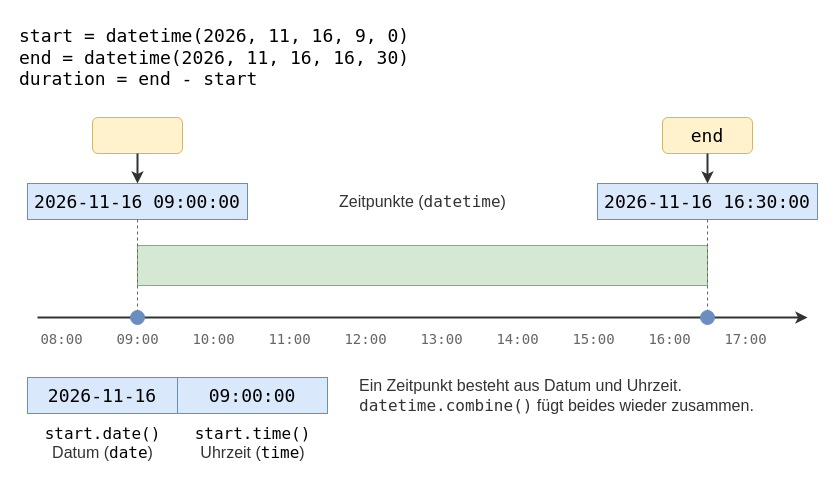
The diagram is 835 pixels wide and 484 high, and some of its shapes have lost their labels. Each missing label, with the centre of its shape:
"duration 7:30:00 Zeitspanne ( timedelta )" goes at point (422, 265).
"start" goes at point (137, 135).
